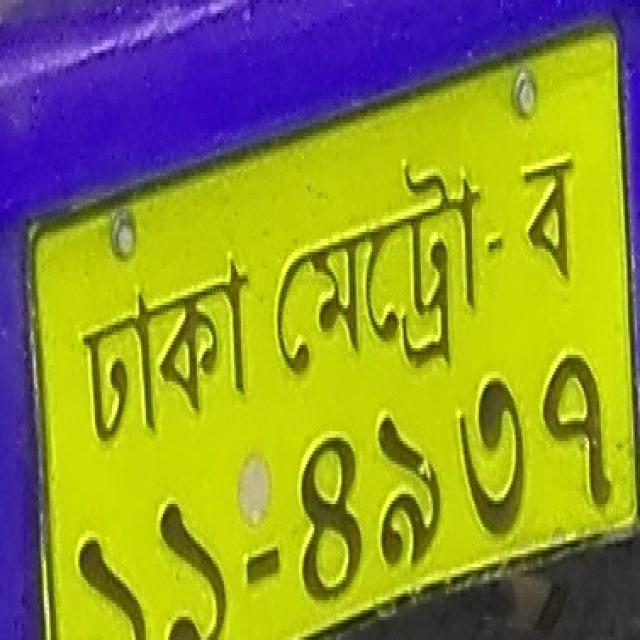numberplate: (19, 13, 636, 637)
